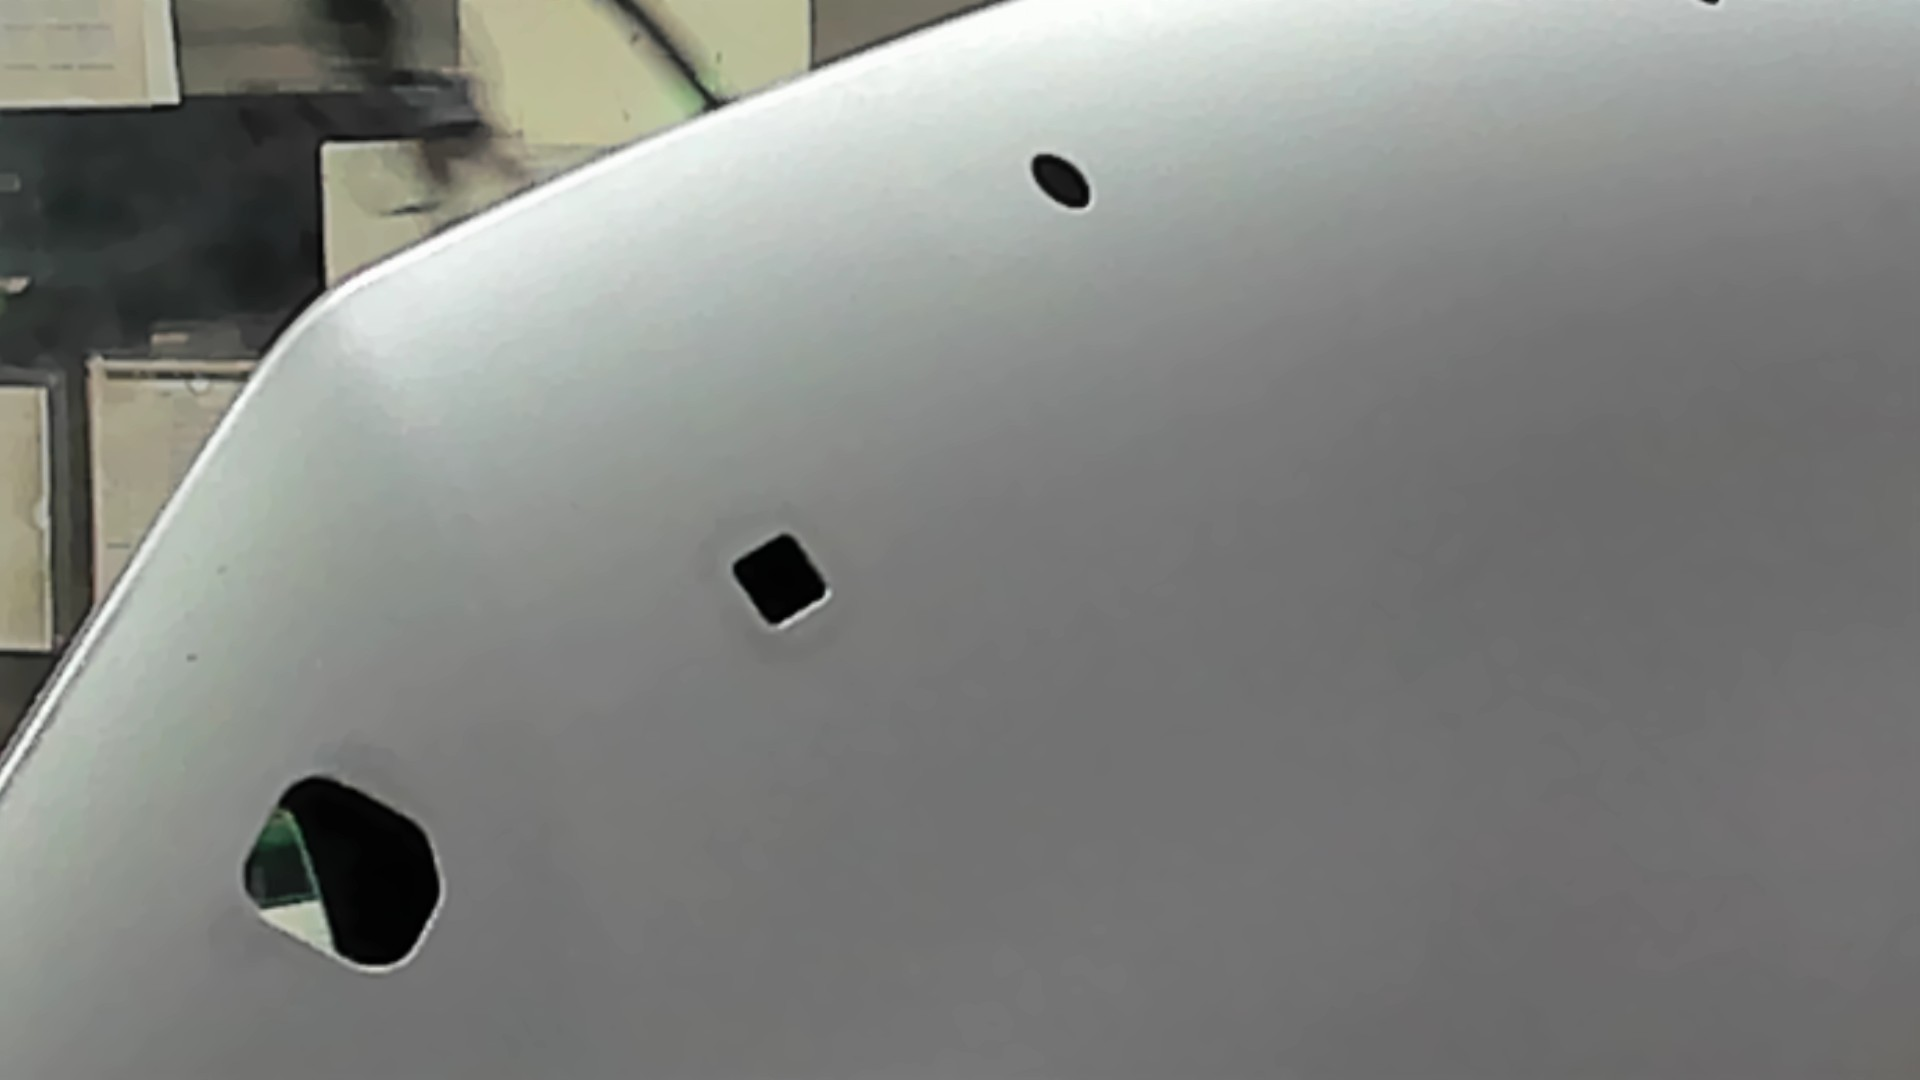chico: (1015, 140, 1110, 227)
grande: (202, 756, 462, 990)
mediano: (713, 522, 851, 646)
